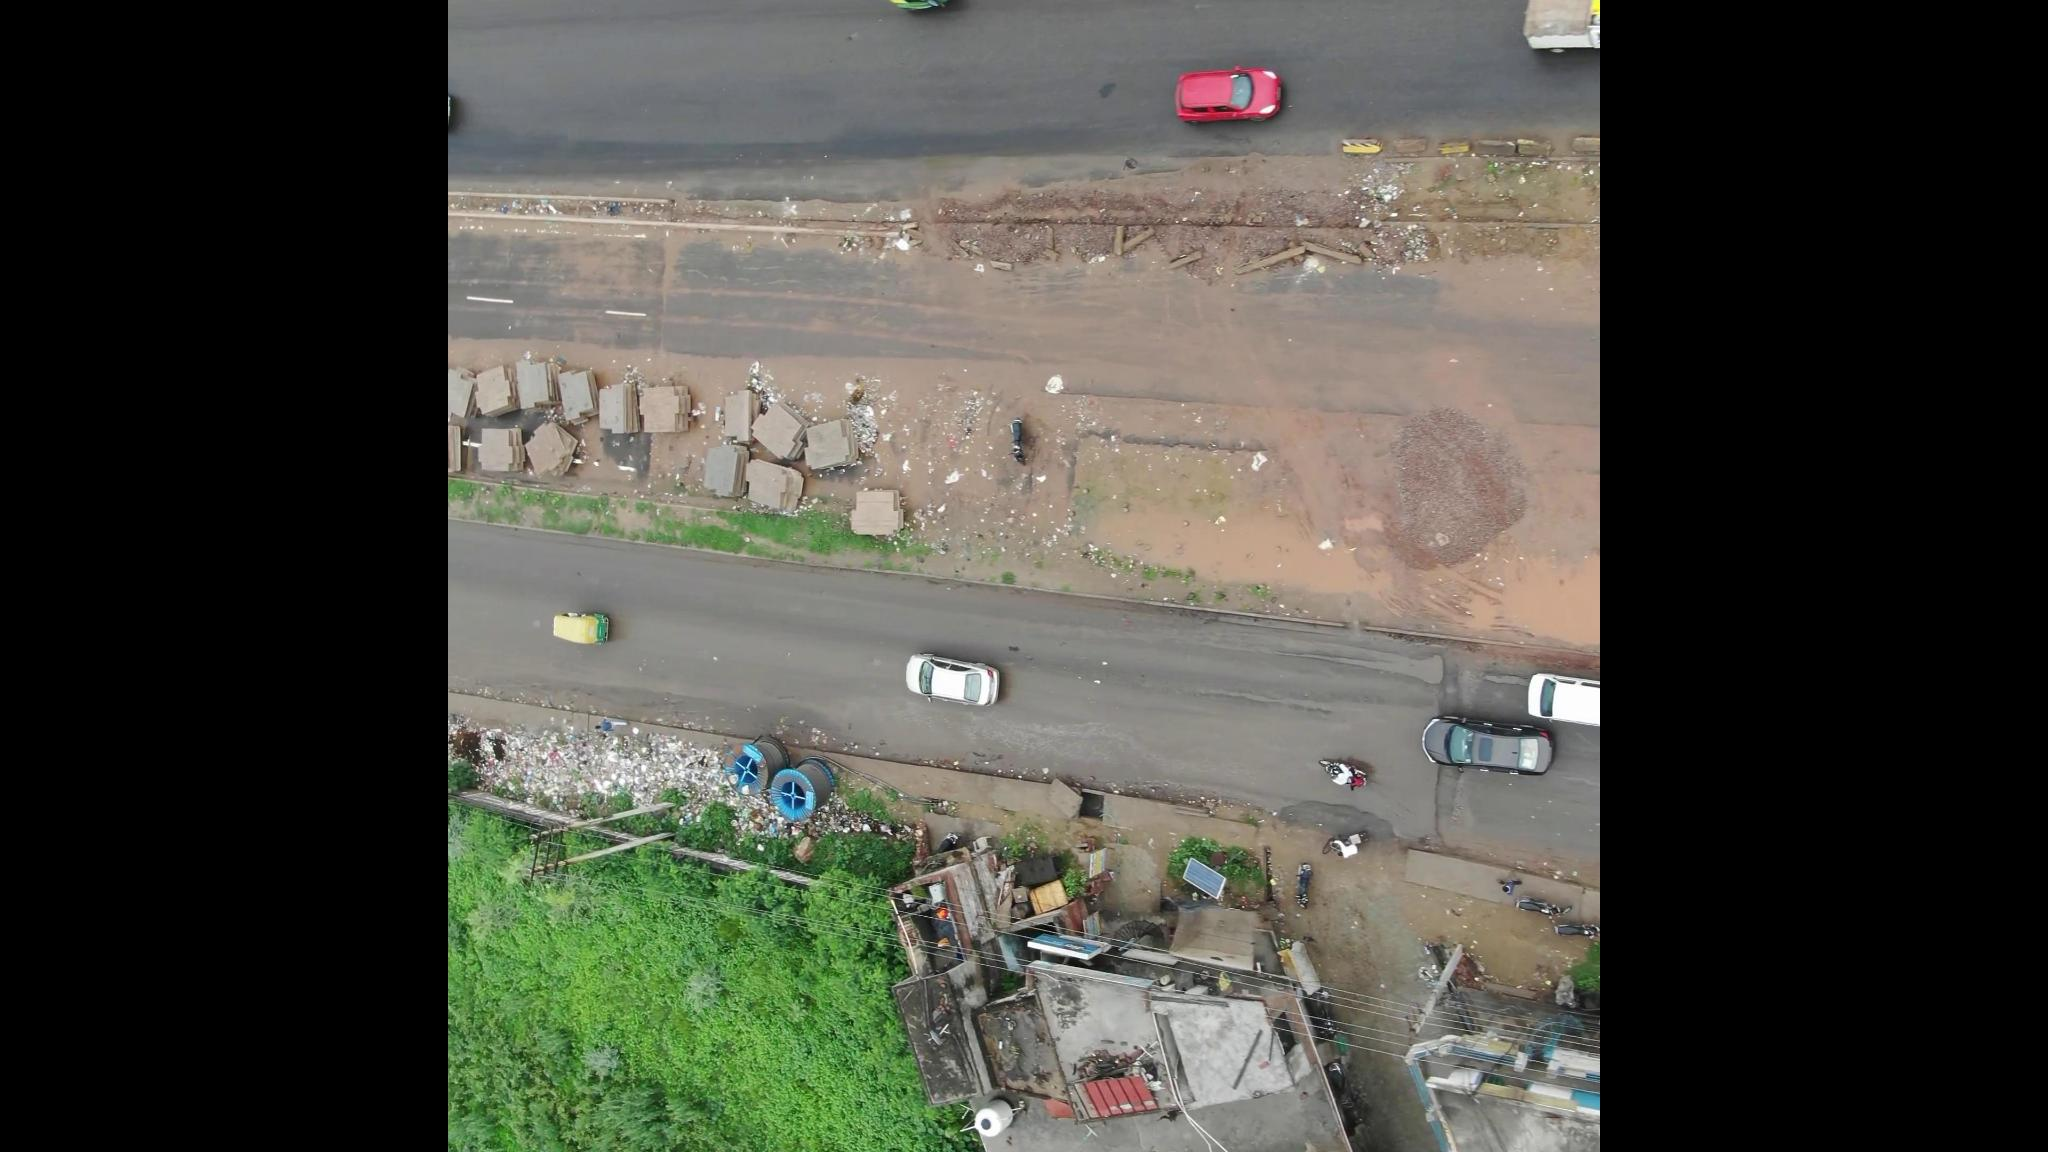Road_side_garbage: (449, 731, 609, 807), (608, 736, 727, 837)
